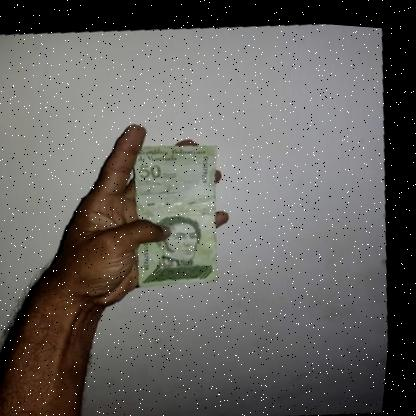fifty-front-vef: (119, 128, 243, 291)
